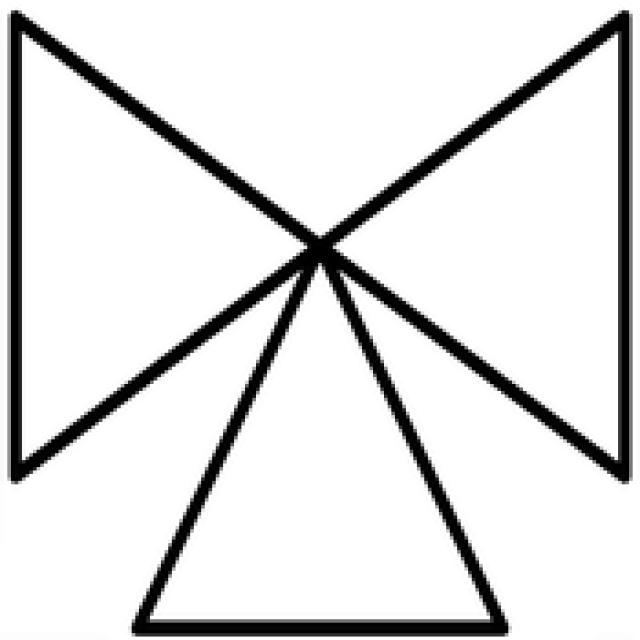3-way Valve: (11, 10, 625, 633)
